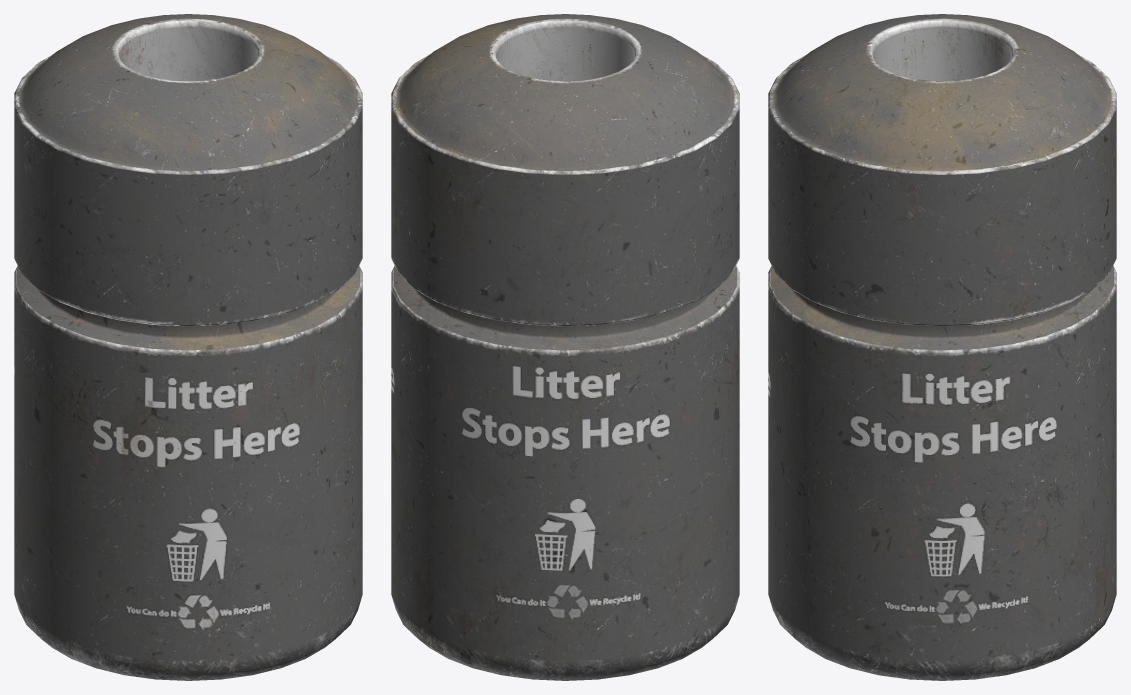
The model's file is SM_Bin.glb.
3 views of the same model, side by side, from view 1: azimuth 30°, elevation 25°; view 2: azimuth 150°, elevation 25°; view 3: azimuth 270°, elevation 25° (orthographic).
Parts seen in each view (by area): view 1: SM_Bin; view 2: SM_Bin; view 3: SM_Bin.
Part boxes in pixels (bbox=[...]): SM_Bin: bbox=[14, 14, 362, 680]; SM_Bin: bbox=[391, 14, 739, 680]; SM_Bin: bbox=[768, 14, 1116, 680].
Bounding box in the file's own units: 0.55 × 0.9845 × 0.547.
Materials: 1 (1 with a texture image).
